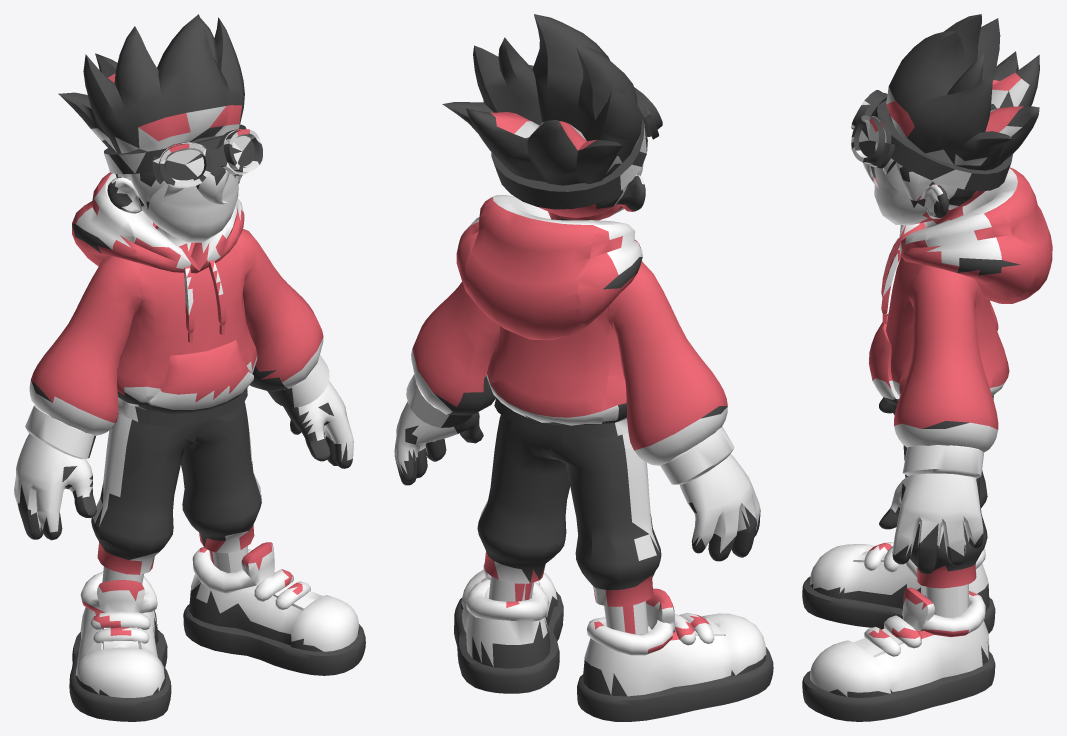
File: Hero.glb
3 renders of one model, left to right at view 1: azimuth 30°, elevation 25°; view 2: azimuth 150°, elevation 25°; view 3: azimuth 270°, elevation 25°, orthographic. The views are drawn at different scales.
Parts seen in each view (by area): view 1: LegR, ArmL, Head, LegL, Body, ArmR; view 2: LegL, ArmL, Body, Head, LegR, ArmR; view 3: ArmR, Head, LegR, Body, LegL.
Part boxes in pixels (<box>): LegR: <box>181,383,365,675</box>; ArmL: <box>14,183,150,540</box>; Head: <box>58,14,262,204</box>; LegL: <box>69,415,202,721</box>; Body: <box>89,172,253,424</box>; ArmR: <box>235,198,353,468</box>; LegL: <box>549,434,773,721</box>; ArmL: <box>576,223,760,561</box>; Body: <box>465,194,644,441</box>; Head: <box>442,14,662,208</box>; LegR: <box>454,401,570,693</box>; ArmR: <box>394,195,513,485</box>; ArmR: <box>879,213,1037,574</box>; Head: <box>851,14,1039,206</box>; LegR: <box>802,404,995,721</box>; Body: <box>869,167,1052,412</box>; LegL: <box>802,470,995,633</box>.
Size of the model in its own units: 1.05 by 1.92 by 0.6856.
